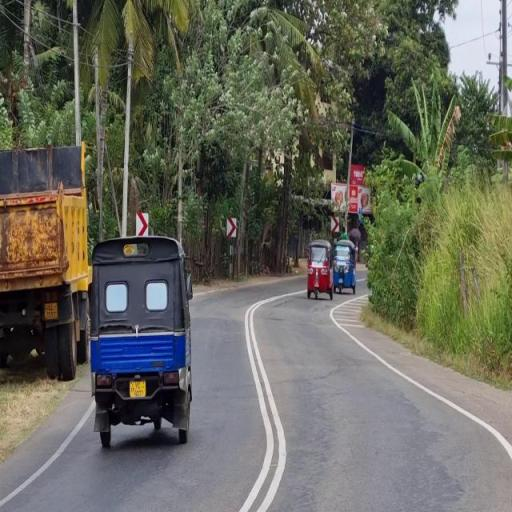double_white_line: (332, 296, 512, 458), (240, 294, 291, 511), (0, 402, 90, 505)
